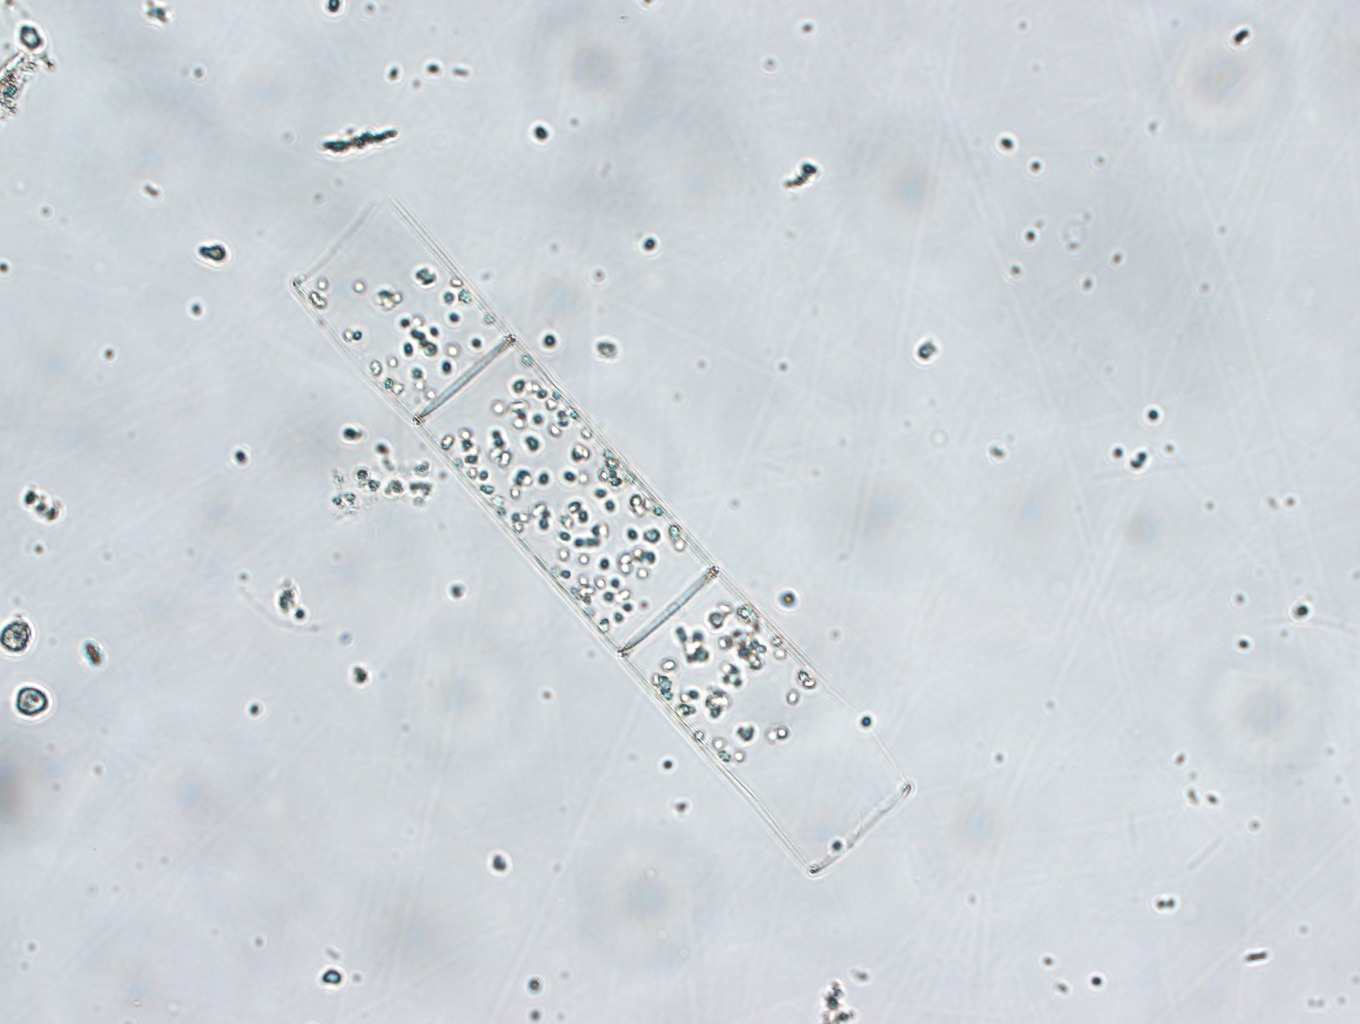guinardia flaccida: (277, 177, 920, 885)
